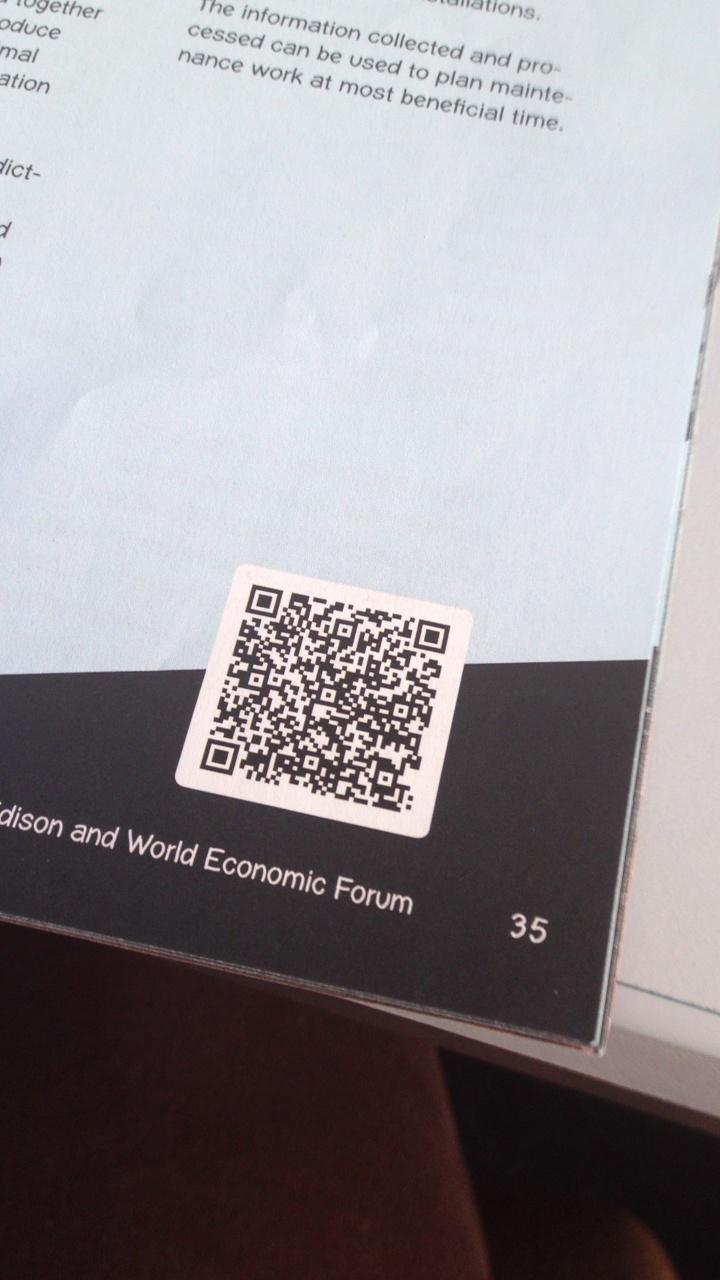Finder pattern: (197, 736, 241, 778), (412, 618, 454, 655), (244, 581, 284, 619)
